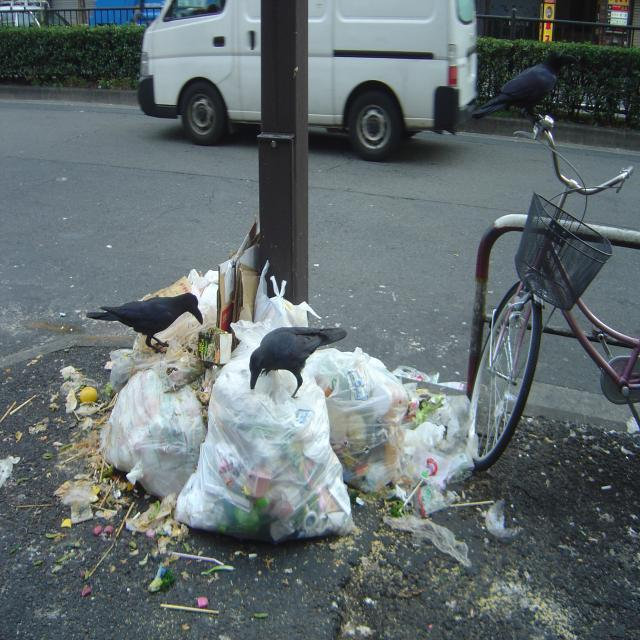garbage: (100, 333, 346, 539), (307, 342, 482, 520), (195, 222, 309, 332)
